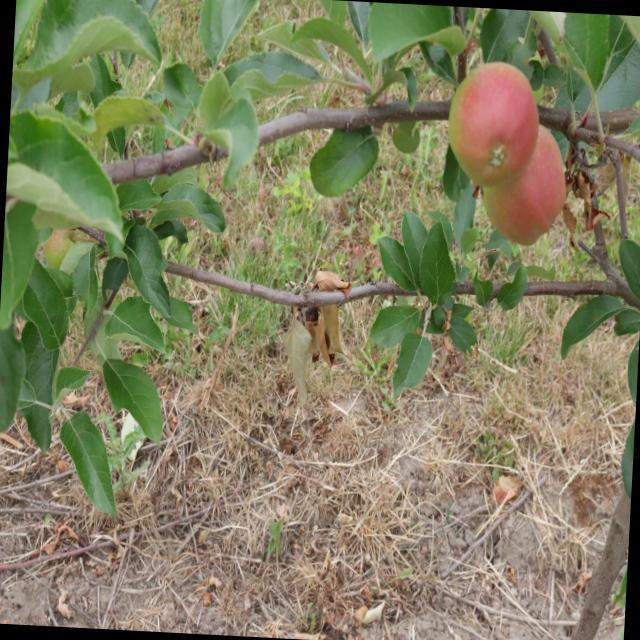-FireBlight-: (302, 276, 350, 369)
